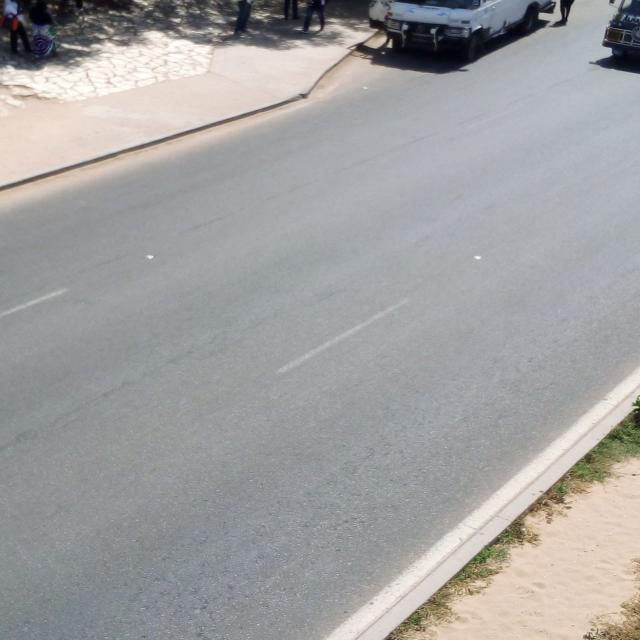car rapide: (604, 1, 640, 59)
ndiaga ndiaye: (383, 1, 556, 61)
